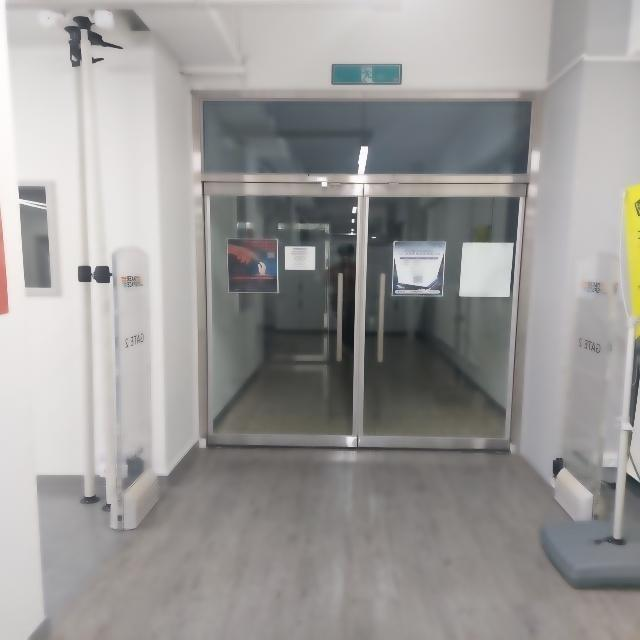door: (200, 178, 362, 452), (362, 180, 521, 452)
